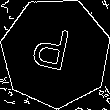P_S: (33, 24, 78, 81)
